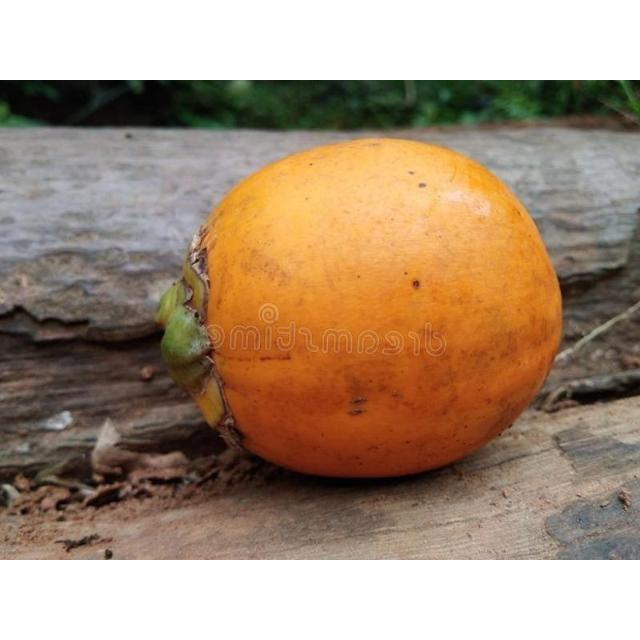good: (155, 138, 565, 482)
